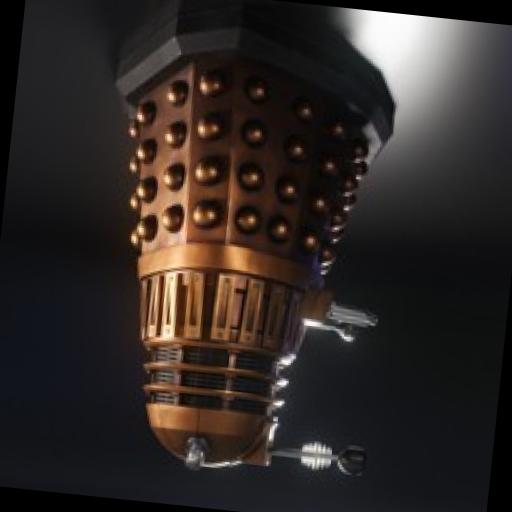dalek: (76, 14, 426, 492)
